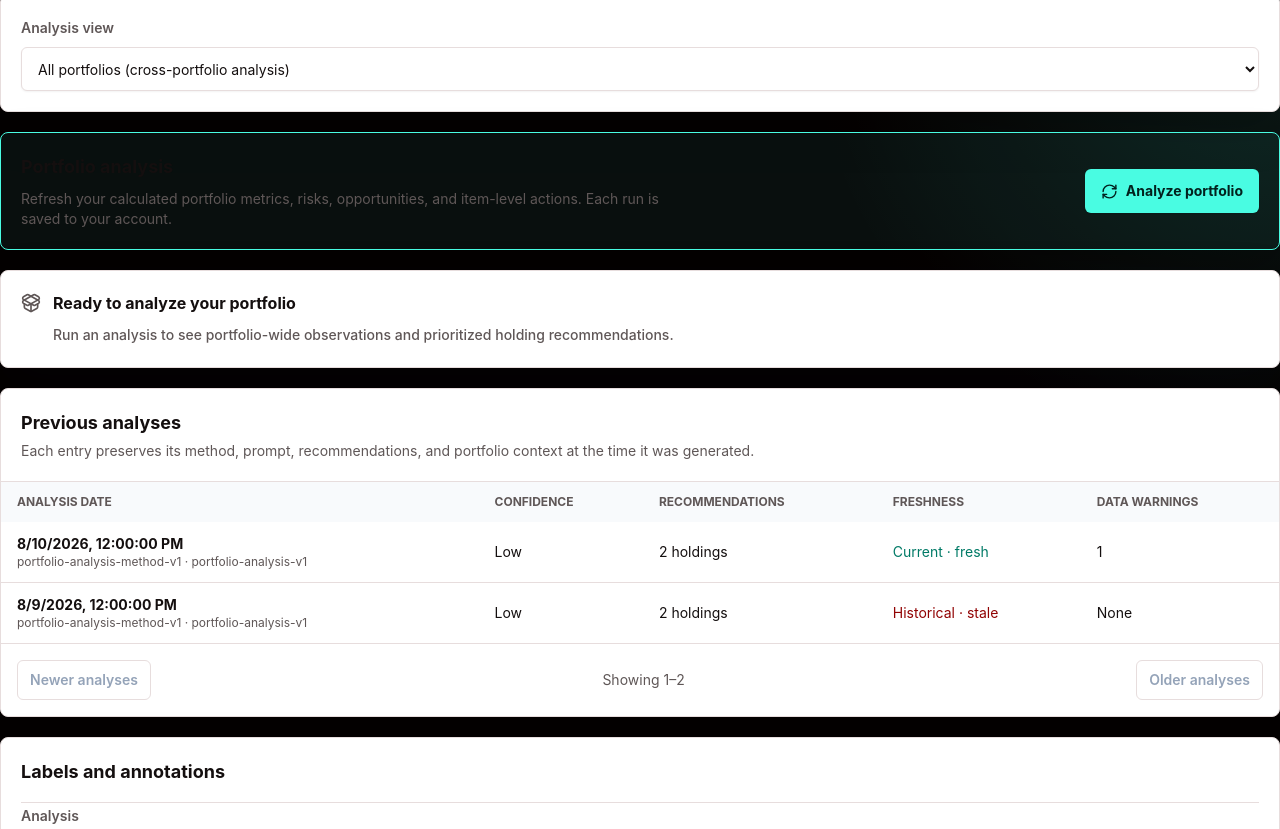
Test: AnalyzePortfolioPage › shows the summary, risks, opportunities, actions, and disclaimer
The width and height of the screenshot is (1280, 829).
Click the button "Analyze portfolio" at (1172, 191), box [1085,169,1259,213]
(page scrolled)
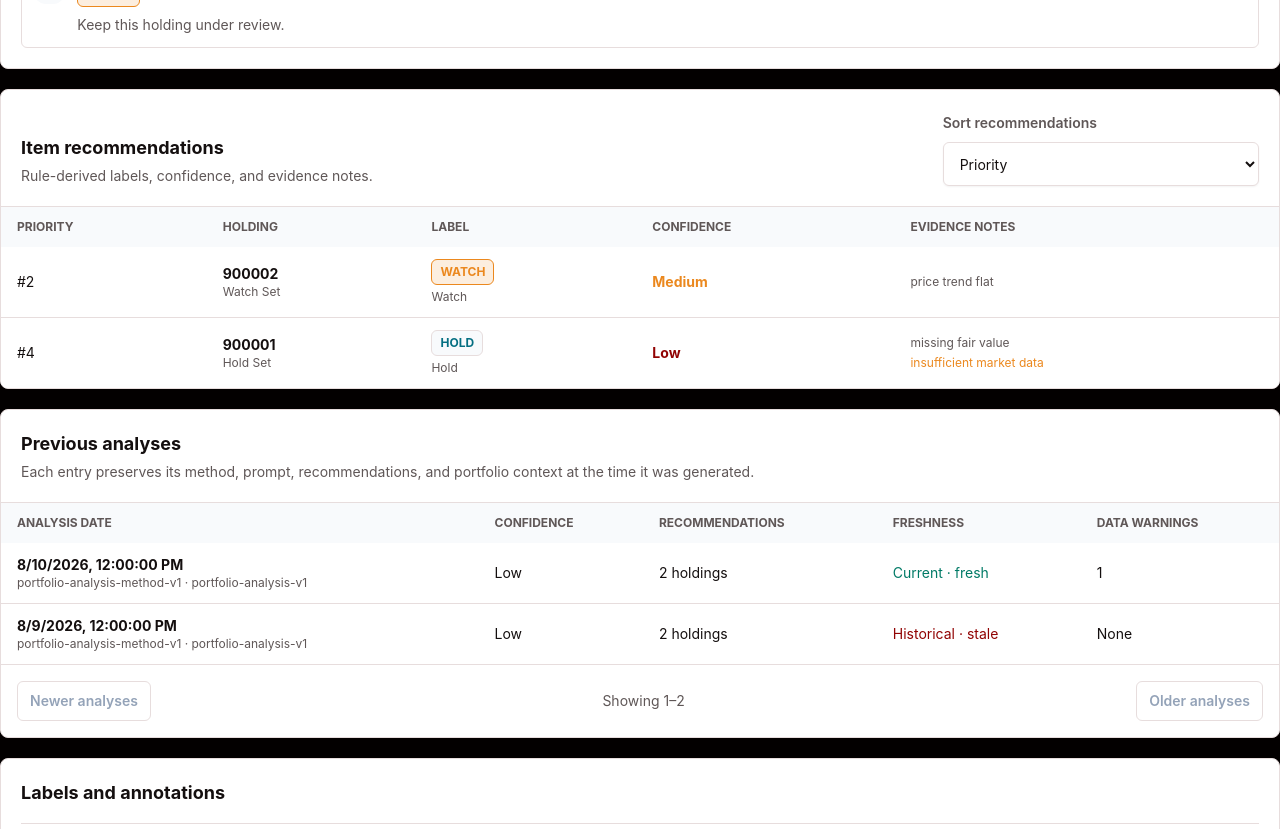
Expected: the heading "Previous analyses" is shown, [21,433,181,454]
Expected: the heading "Item recommendations" is shown, [21,137,224,158]
